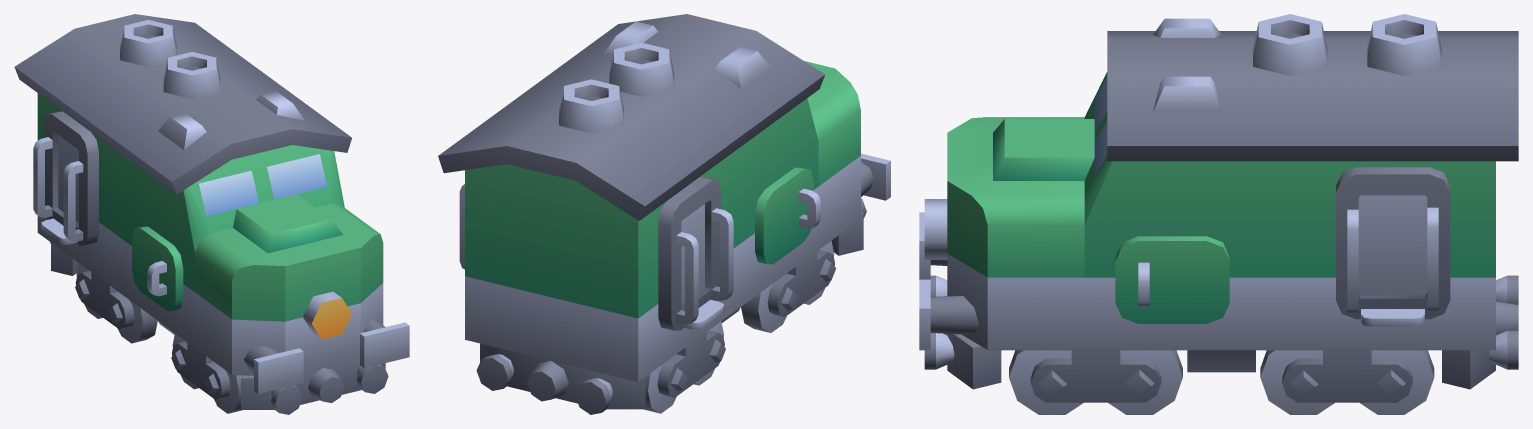
The model's file is train-diesel-box-a.glb.
The picture shows the model from 3 angles, left to right: view 1: azimuth 30°, elevation 25°; view 2: azimuth 150°, elevation 25°; view 3: azimuth 270°, elevation 25°; orthographic projection. The views are drawn at different scales.
Visible parts, largest first — view 1: train-diesel-box-a; view 2: train-diesel-box-a; view 3: train-diesel-box-a.
Boxes of the visible parts, bbox=[...] form: train-diesel-box-a: bbox=[14, 14, 409, 414]; train-diesel-box-a: bbox=[438, 14, 890, 414]; train-diesel-box-a: bbox=[919, 14, 1518, 414].
Size of the model in its own units: 1.35 by 1.67 by 2.62.
1 material, 1 textured.
